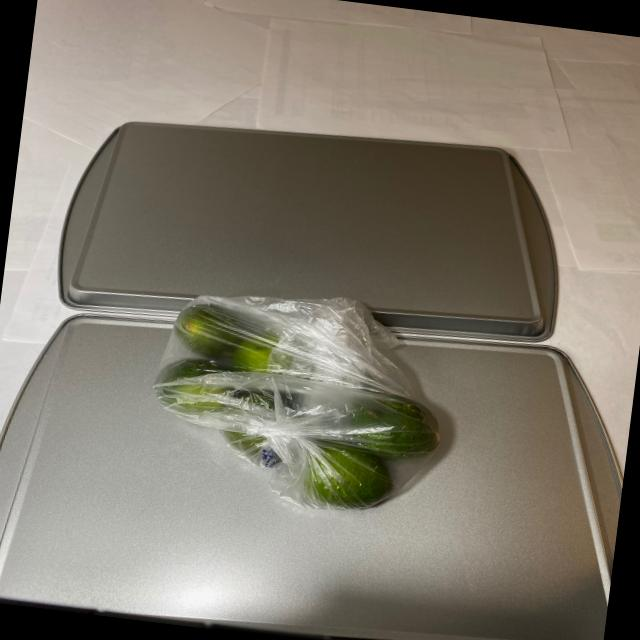lemon: (143, 286, 451, 516)
